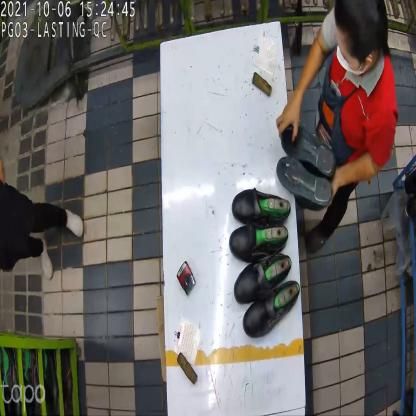shoes: (233, 258, 300, 335), (278, 120, 336, 205), (226, 191, 290, 251)
stamp: (272, 113, 300, 156), (179, 264, 196, 297)
